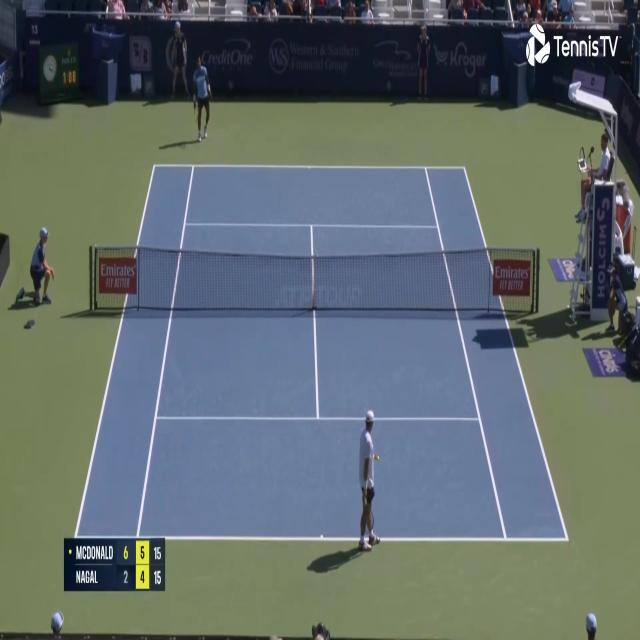tennis-player: (355, 406, 382, 556), (188, 51, 213, 142)
